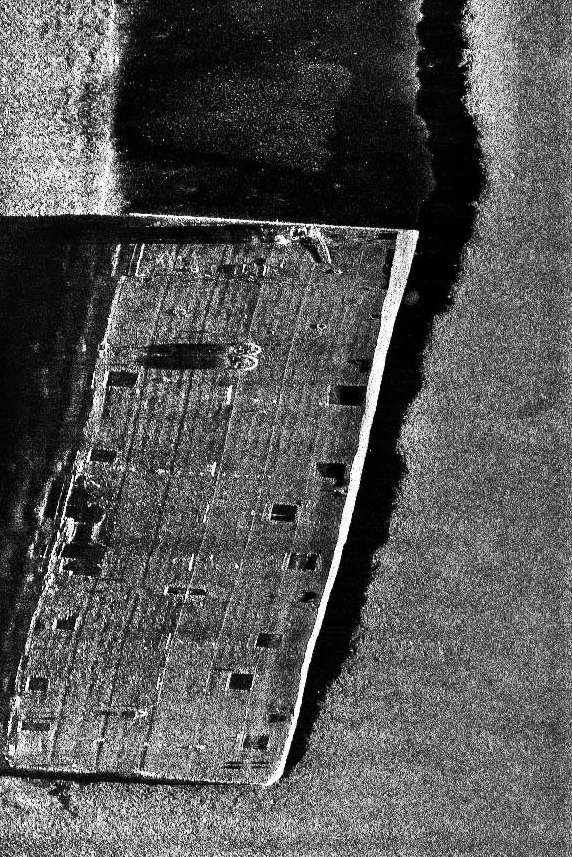ship: (4, 199, 421, 808)
